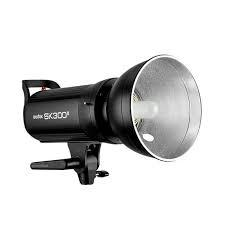Lamp: (13, 50, 209, 194)
